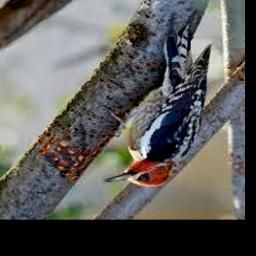Woodpecker: (103, 11, 211, 187)
